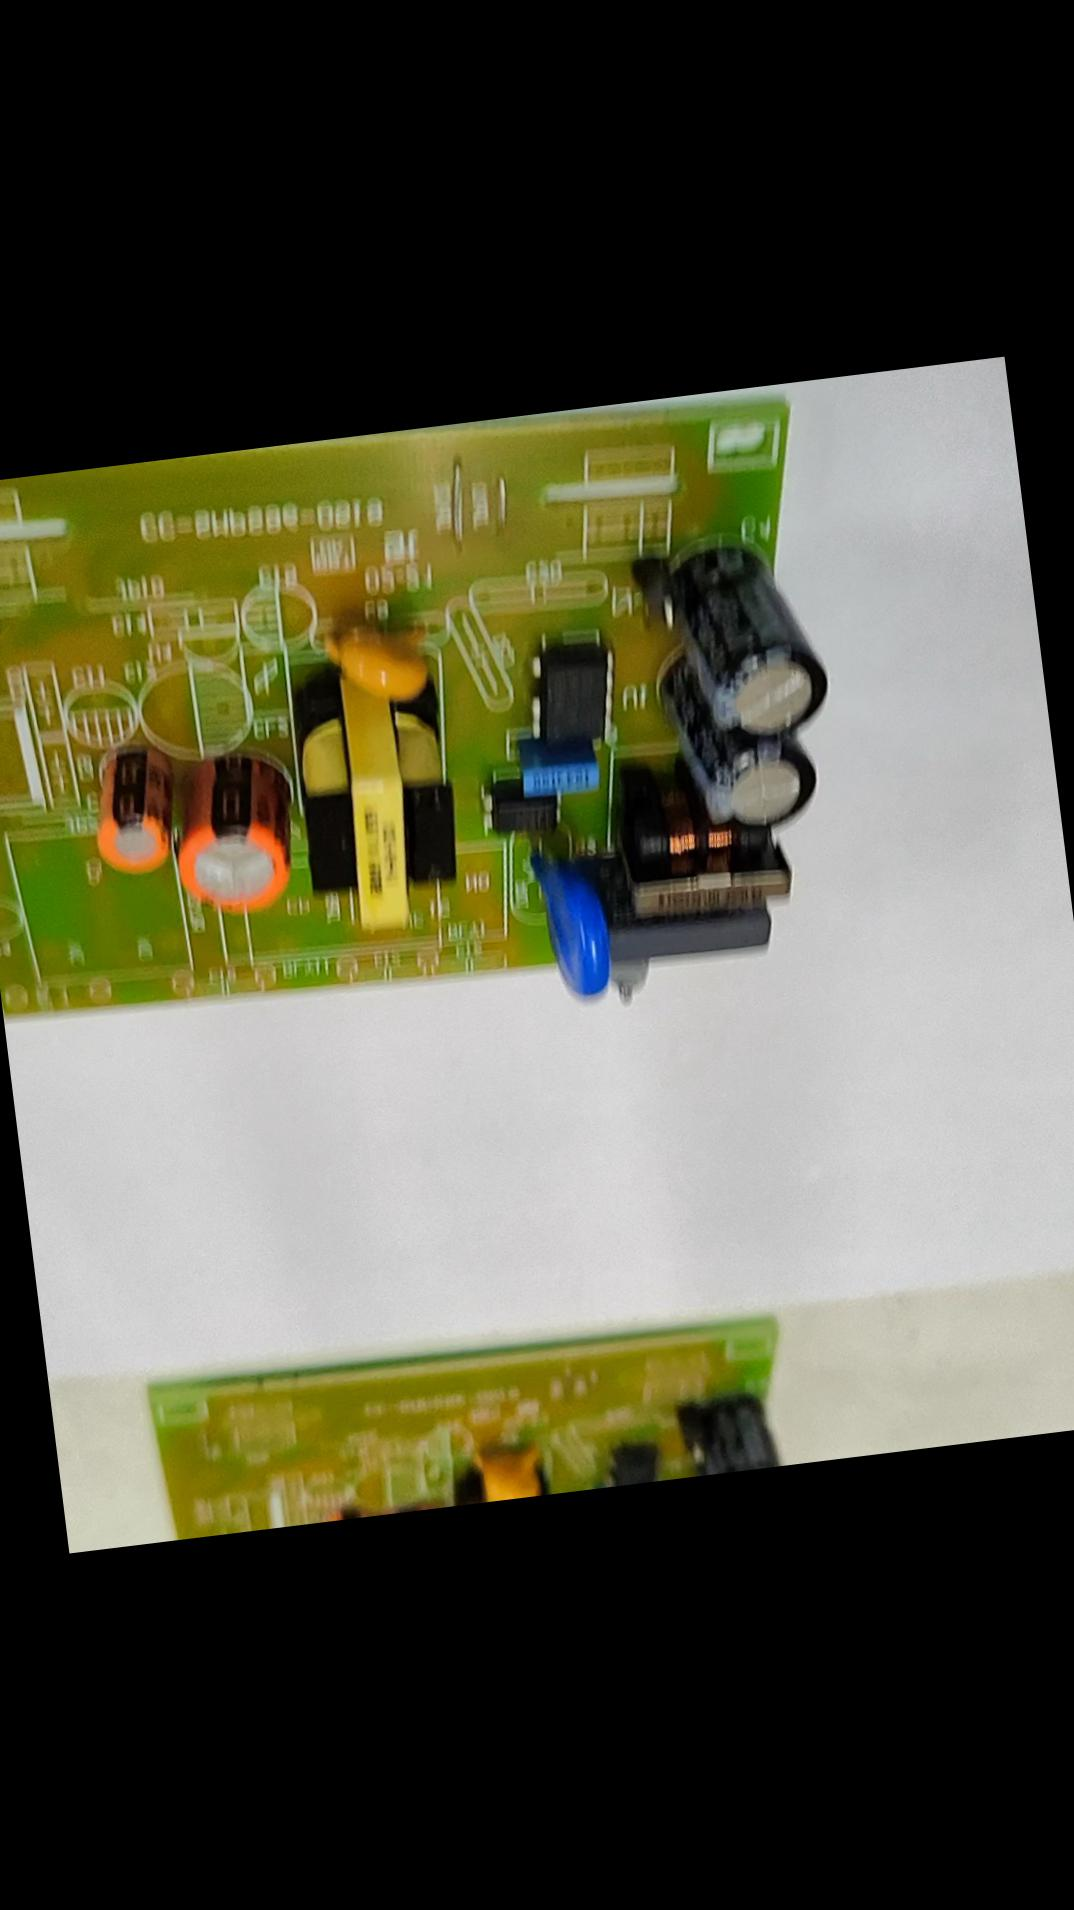Cap1: (156, 744, 303, 938)
Cap2: (79, 736, 177, 889)
Cap3: (661, 736, 826, 837)
Cap4: (656, 537, 845, 752)
MOSFET: (521, 641, 623, 750)
Mov: (535, 850, 612, 1014)
Resistor: (602, 951, 652, 1009)
Transformer: (286, 668, 475, 946), (612, 766, 803, 934)
